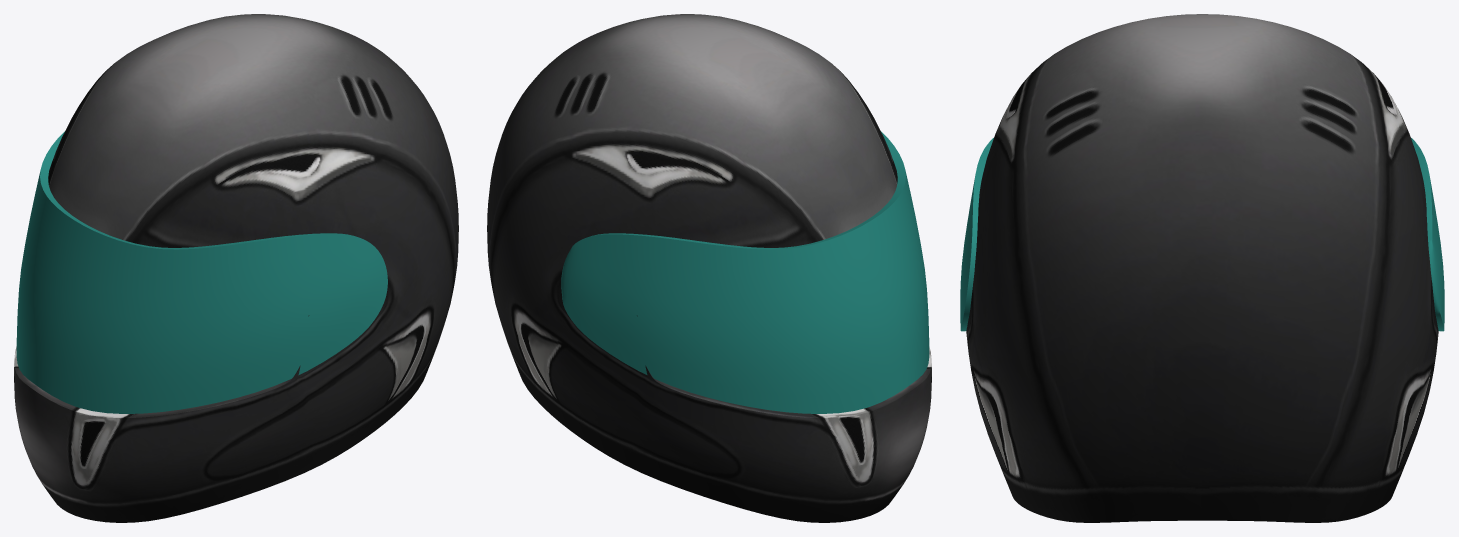
The model's file is player.glb.
The picture shows the model from 3 angles, left to right: view 1: azimuth 30°, elevation 25°; view 2: azimuth 150°, elevation 25°; view 3: azimuth 270°, elevation 25°; orthographic projection. The views are drawn at different scales.
Parts seen in each view (by area): view 1: 10517_Motorcycle_Helmet_v01_L3; view 2: 10517_Motorcycle_Helmet_v01_L3; view 3: 10517_Motorcycle_Helmet_v01_L3.
Part boxes in pixels (left/top/right/bottom): 10517_Motorcycle_Helmet_v01_L3: left=14, top=14, right=458, bottom=522; 10517_Motorcycle_Helmet_v01_L3: left=487, top=14, right=931, bottom=522; 10517_Motorcycle_Helmet_v01_L3: left=960, top=14, right=1444, bottom=522.
Size of the model in its own units: 1.16 by 1.17 by 0.9688.
Materials: 2 (1 with a texture image).
